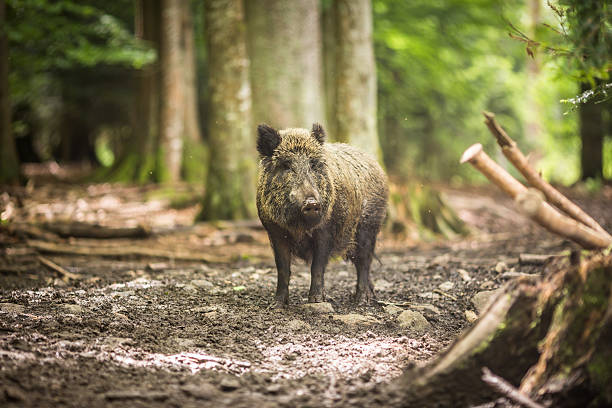pig: (240, 120, 343, 228)
